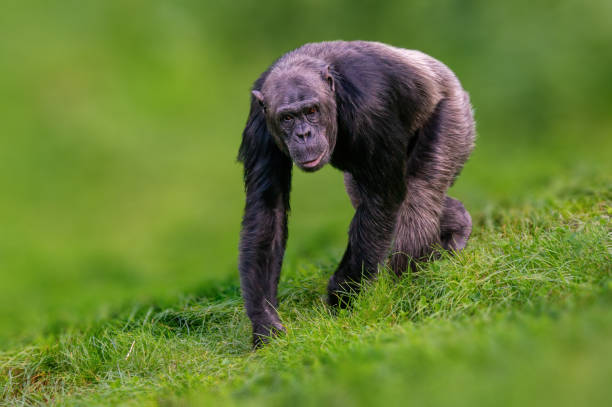chimpanzee: (240, 47, 353, 184)
